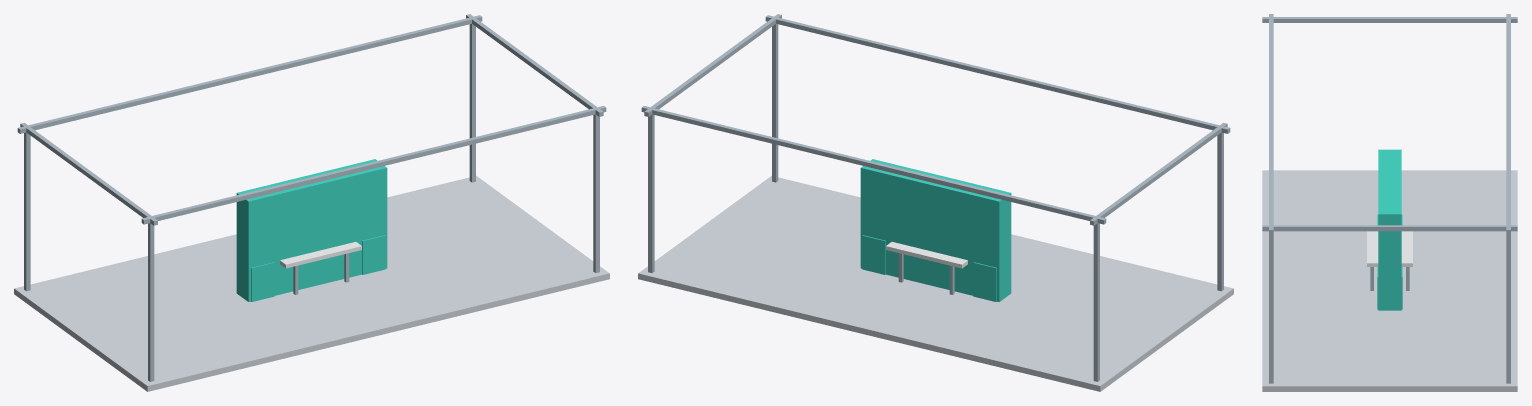
3 renders of one model, left to right at view 1: azimuth 30°, elevation 25°; view 2: azimuth 150°, elevation 25°; view 3: azimuth 270°, elevation 25°, orthographic. The views are drawn at different scales.
Visible parts, largest first — view 1: Exhibition Booth Concept; view 2: Exhibition Booth Concept; view 3: Exhibition Booth Concept.
Part boxes in pixels (<box>): Exhibition Booth Concept: <box>14,14,609,391</box>; Exhibition Booth Concept: <box>638,14,1233,391</box>; Exhibition Booth Concept: <box>1262,14,1517,391</box>.
Size of the model in its own units: 10 by 3.49 by 5.
